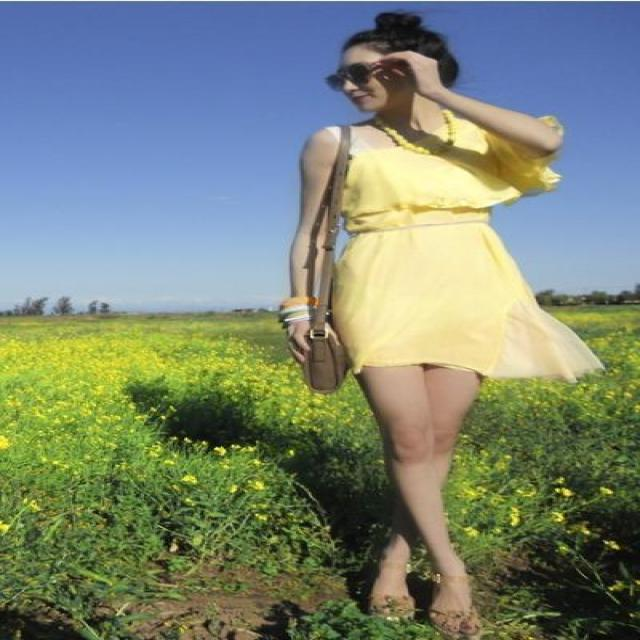bag: (300, 168, 370, 394)
dress: (326, 117, 594, 382)
shoe: (371, 587, 493, 639)
sunglass: (326, 64, 373, 101)
